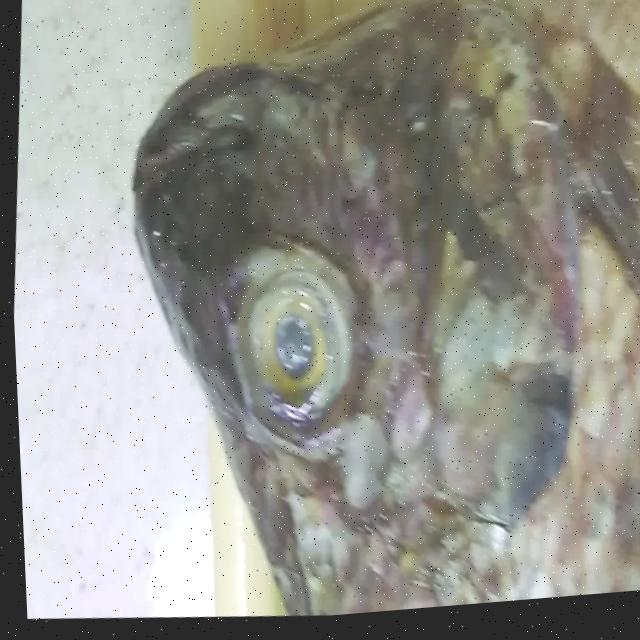Non-Fresh: (203, 239, 373, 470)
